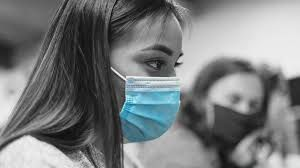with-mask: (82, 1, 190, 149)
